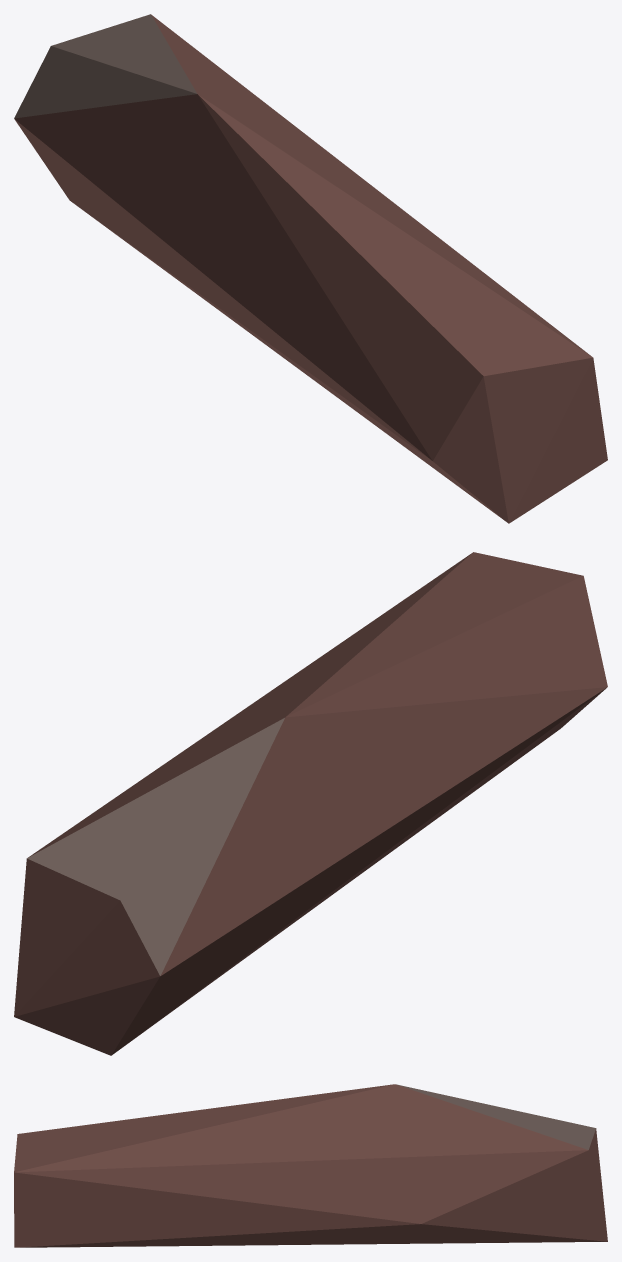
Rendered from WoodLog.lod4.glb.
3 views of the same model, one above another, from view 1: azimuth 30°, elevation 25°; view 2: azimuth 150°, elevation 25°; view 3: azimuth 270°, elevation 25° (orthographic). The views are drawn at different scales.
Parts seen in each view (by area): view 1: WoodLog; view 2: WoodLog; view 3: WoodLog.
Part boxes in pixels (x1,y1,x2,y2): WoodLog: (14, 14, 607, 523); WoodLog: (14, 552, 607, 1055); WoodLog: (14, 1084, 607, 1247).
Bounding box in the file's own units: 0.6337 × 0.7487 × 2.68.
